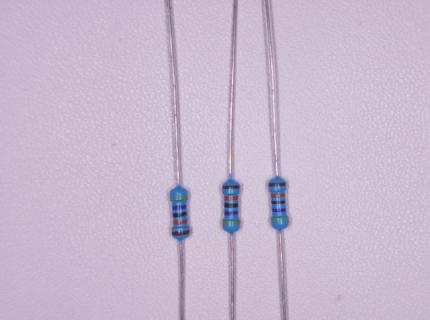Black band: (173, 212, 187, 218), (224, 203, 238, 208), (271, 201, 286, 204)
Brown band: (172, 230, 190, 236), (269, 182, 286, 187), (223, 185, 240, 189)
Orange band: (173, 220, 188, 225), (224, 196, 238, 200), (271, 193, 285, 197)
Violet band: (172, 205, 187, 210), (272, 208, 286, 213), (225, 211, 238, 215)
Yellow band: (171, 196, 188, 200), (223, 221, 240, 224), (271, 218, 288, 221)
